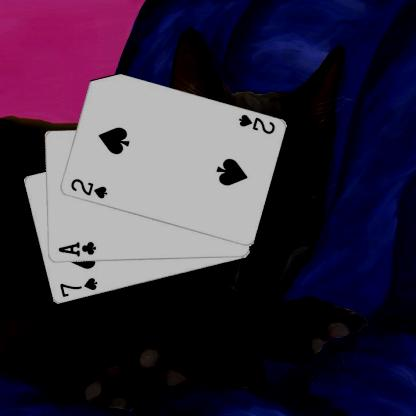2S: (68, 176, 109, 200), (235, 112, 276, 136)
7S: (57, 276, 98, 298)
AC: (56, 239, 96, 258)
